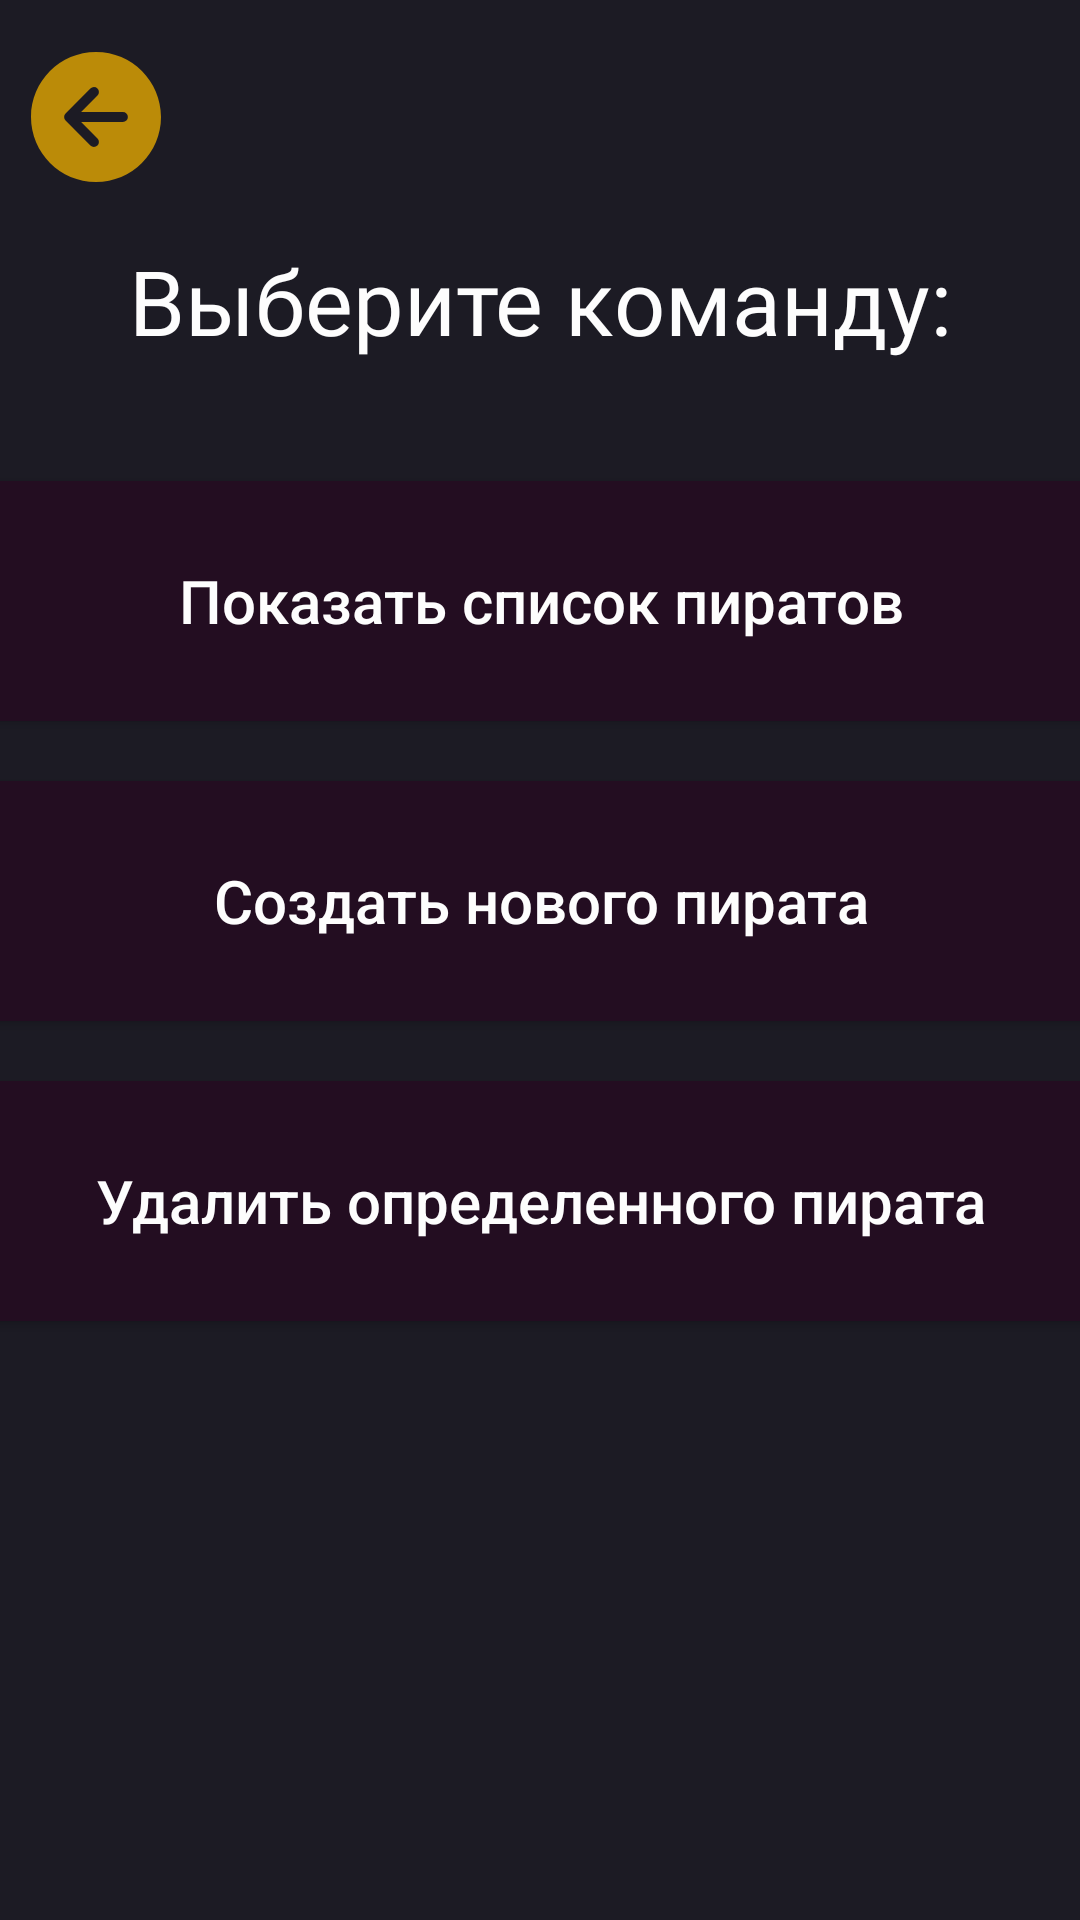

Point at icon controls on the screen. Image size 1080px×1920px, points as (x=x, y=y).
Вернуться на предыдущий экран: (x=96, y=117)
